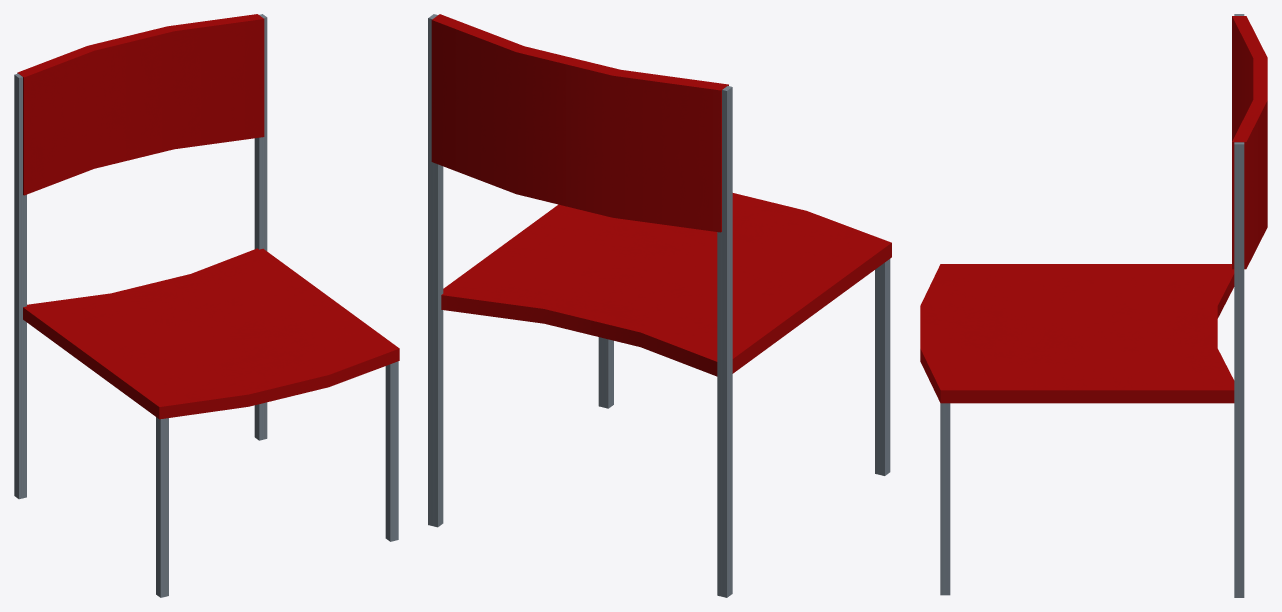
The model's file is Silla1c.fbx.
3 renders of one model, left to right at view 1: azimuth 30°, elevation 25°; view 2: azimuth 150°, elevation 25°; view 3: azimuth 270°, elevation 25°, orthographic. The views are drawn at different scales.
Visible parts, largest first — view 1: SillaRoja; view 2: SillaRoja; view 3: SillaRoja.
Boxes of the visible parts, x1,y1,x2,y2 form: SillaRoja: (14,14,399,597); SillaRoja: (428,14,891,597); SillaRoja: (920,14,1267,597).
Size of the model in its own units: 50.46 by 81.85 by 56.81.
